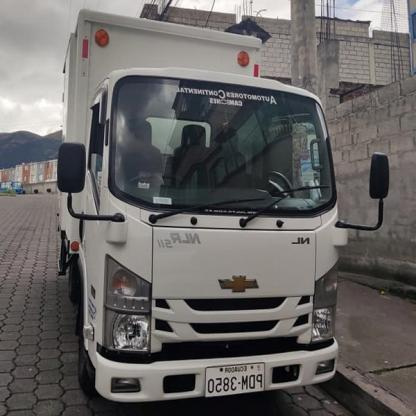Placa: (203, 360, 266, 404)
